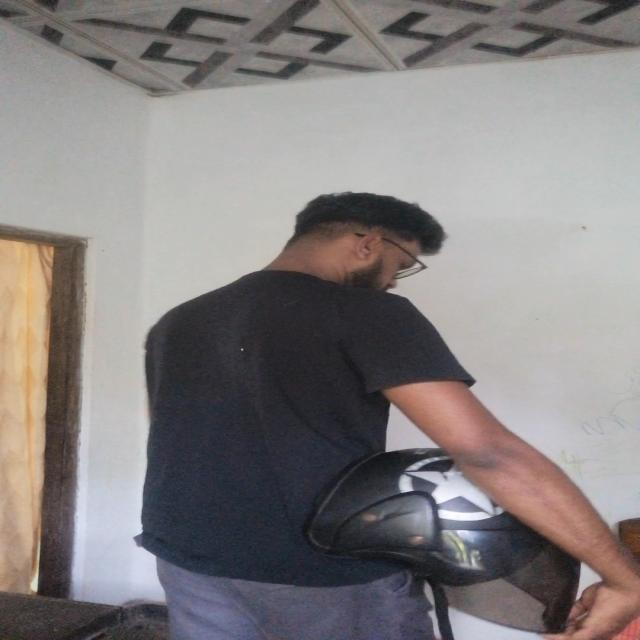Person: (136, 188, 640, 640)
